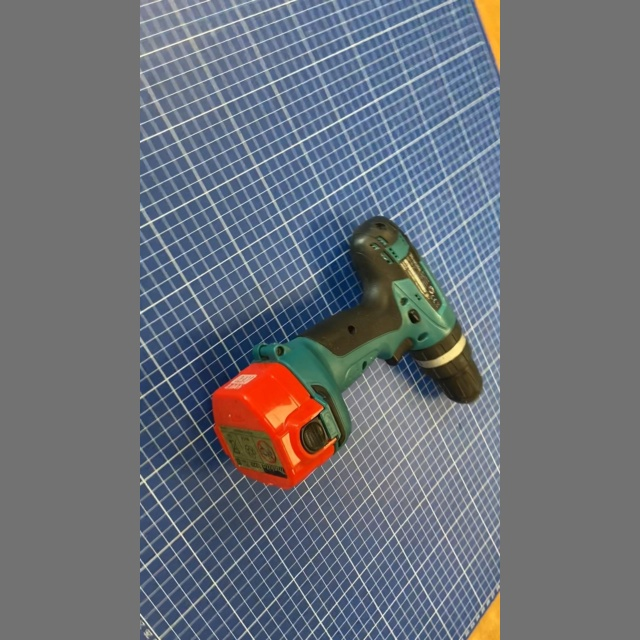drill: (201, 205, 487, 497)
